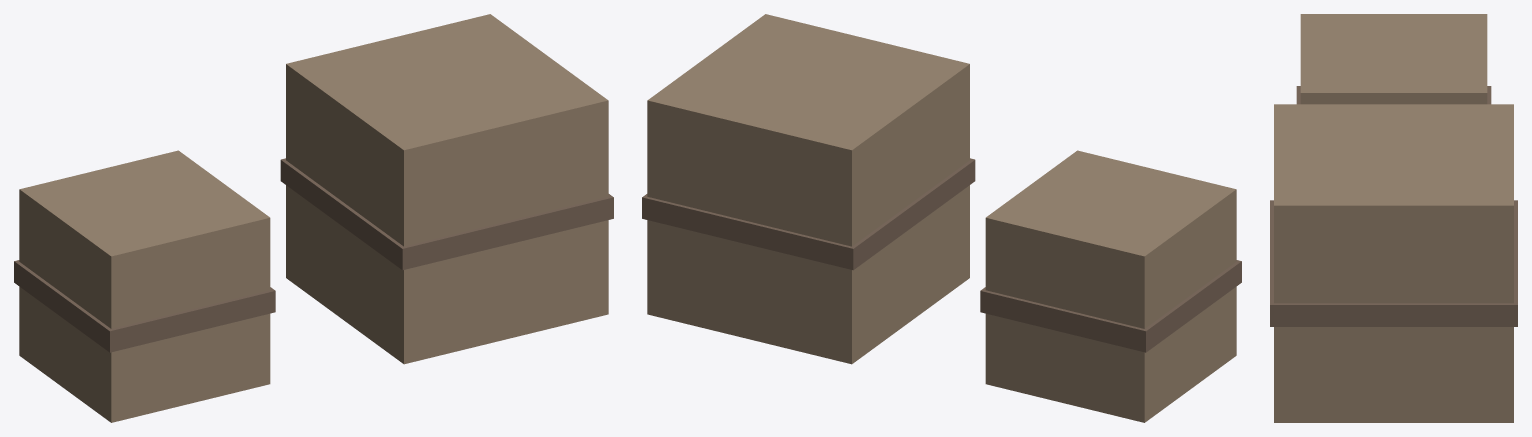
The model's file is caja.glb.
3 renders of one model, left to right at view 1: azimuth 30°, elevation 25°; view 2: azimuth 150°, elevation 25°; view 3: azimuth 270°, elevation 25°, orthographic.
Parts seen in each view (by area): view 1: Caja_90, Caja_70; view 2: Caja_90, Caja_70; view 3: Caja_90, Caja_70.
Part boxes in pixels (box(x1,y1,x2,y2)): Caja_90: box(280, 14, 613, 364); Caja_70: box(14, 150, 275, 422); Caja_90: box(642, 14, 975, 364); Caja_70: box(980, 150, 1241, 422); Caja_90: box(1270, 104, 1517, 422); Caja_70: box(1296, 14, 1491, 104).
Bounding box in the file's own units: 2.16 × 0.9 × 0.93.
